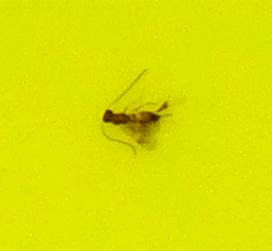Hymenoptera: (100, 100, 172, 151)
